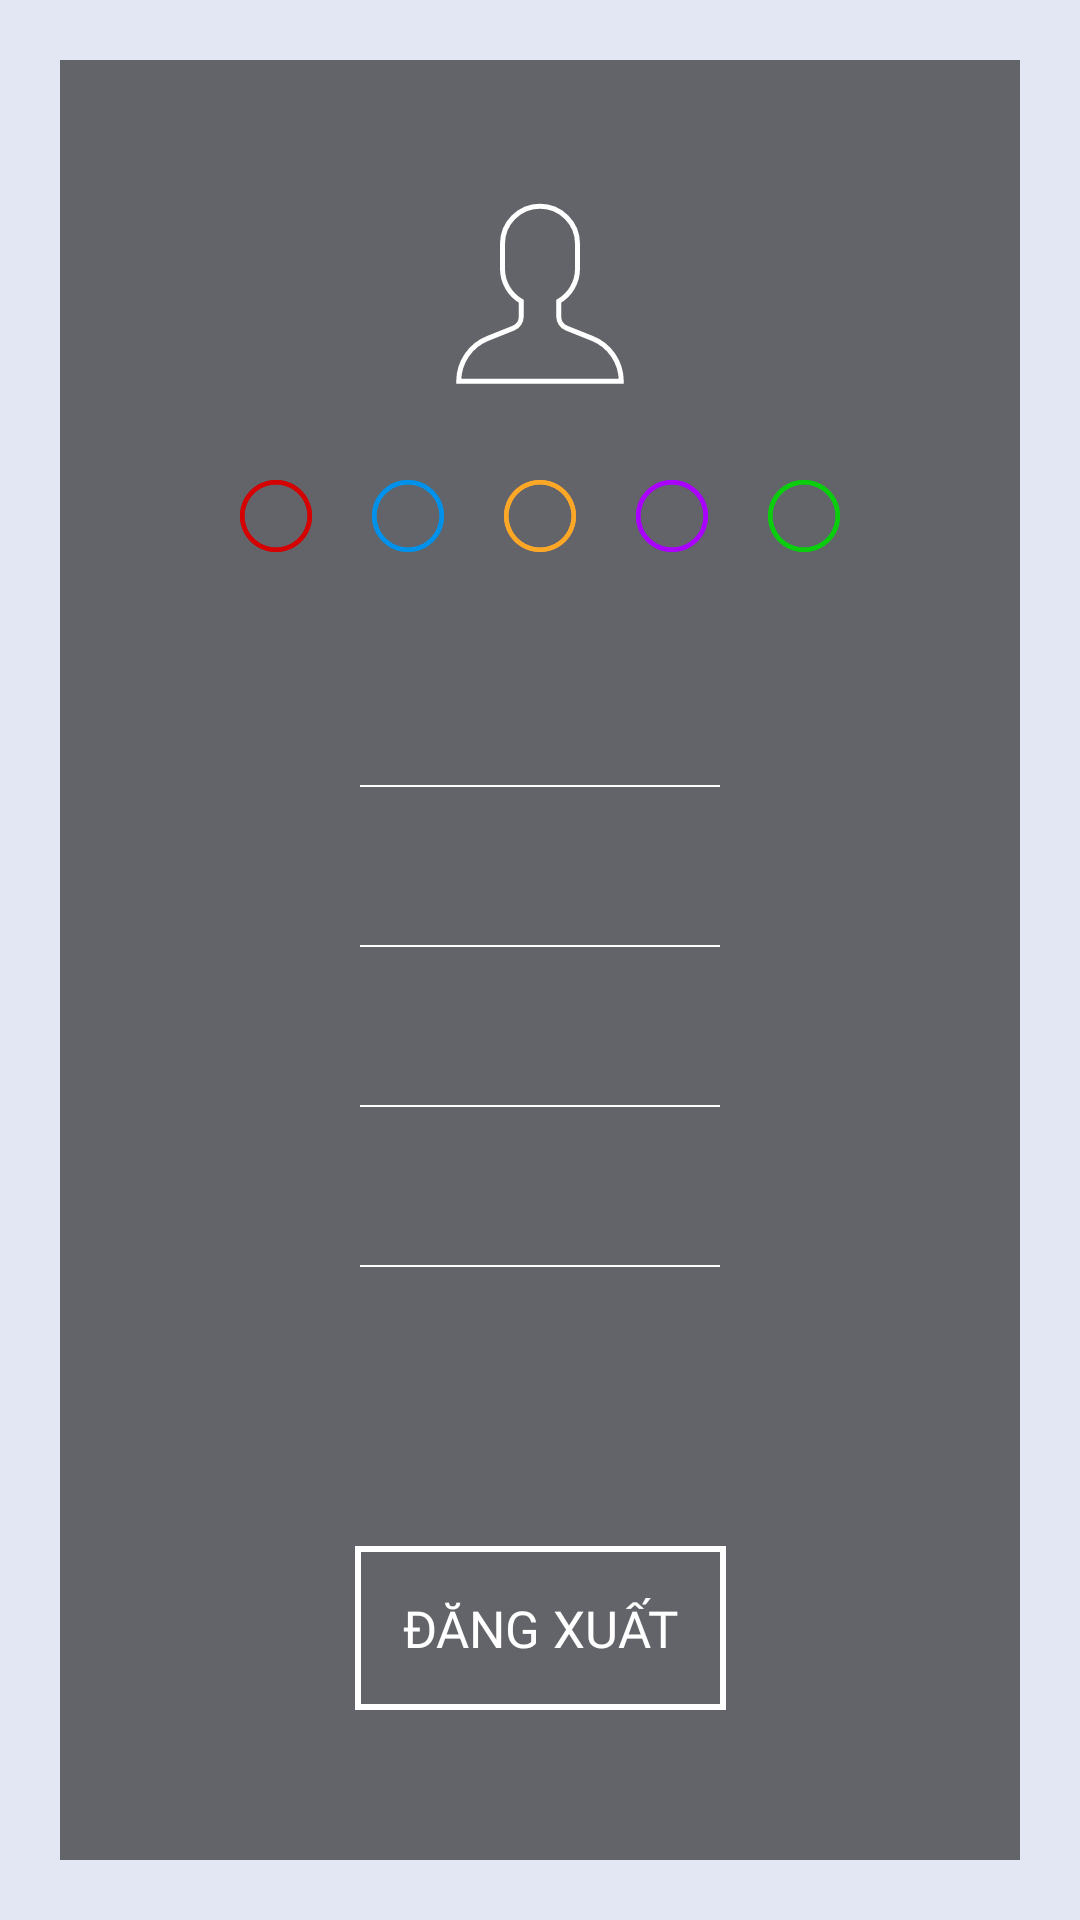

Icon click points for this 1080x1920 phone screenshot, format point (x, y):
contacts: point (540, 293)
